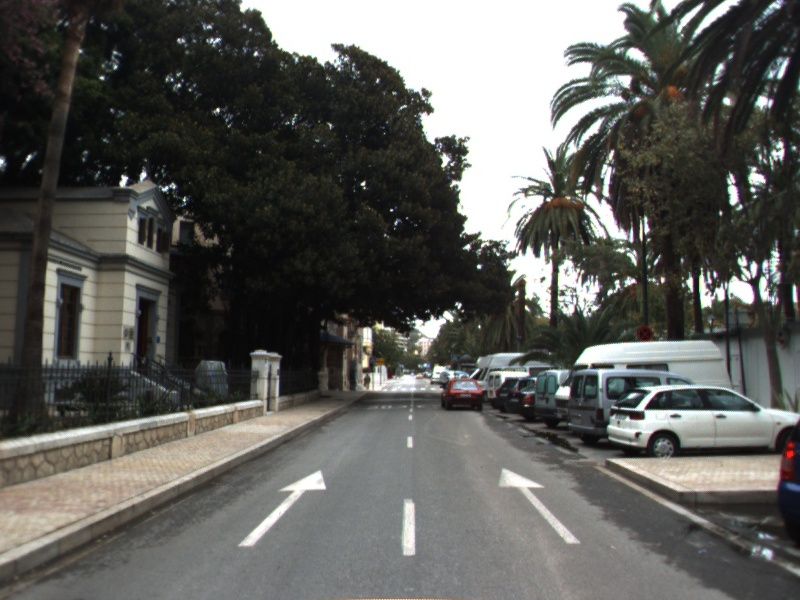STRAIGHT: (236, 468, 329, 549), (496, 466, 582, 546)
